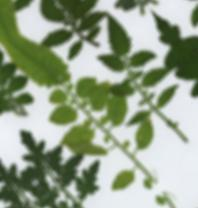Tomato leaf: (0, 21, 76, 101), (37, 89, 90, 142), (97, 158, 147, 206), (66, 125, 114, 172), (56, 113, 100, 156), (121, 114, 164, 157), (96, 86, 138, 129), (77, 75, 117, 112), (65, 67, 104, 104)
